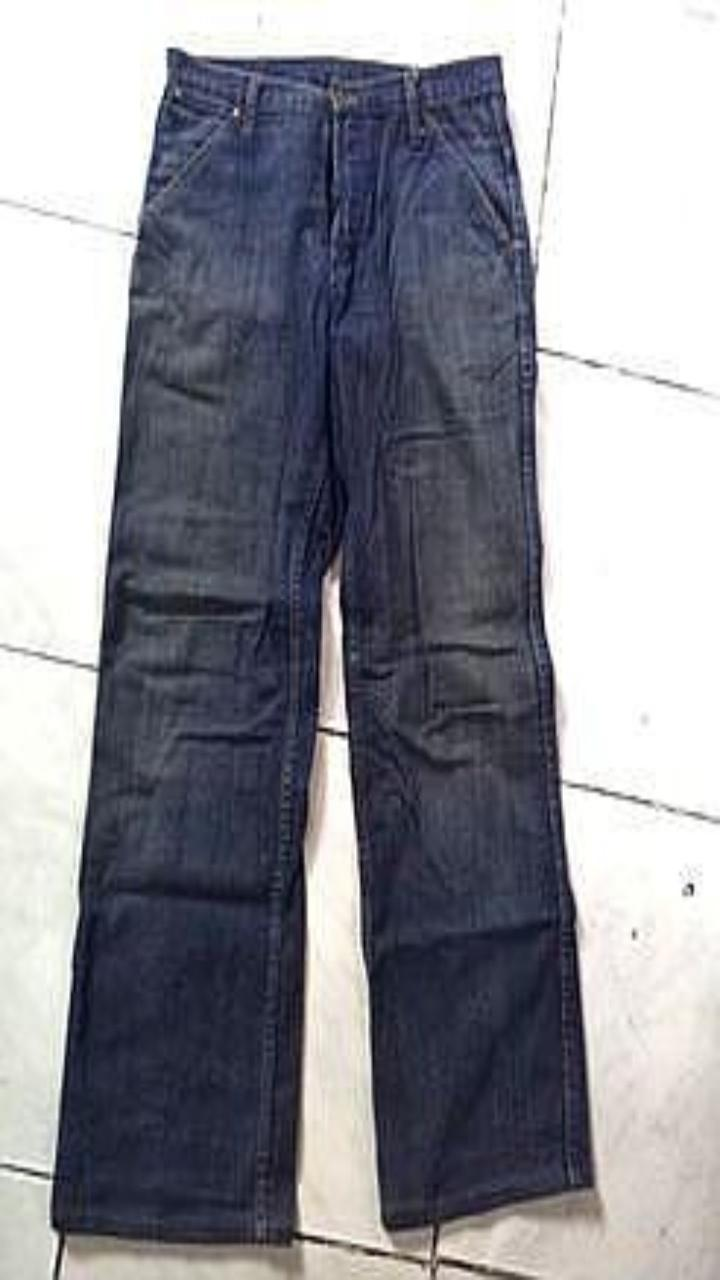Jeans: (52, 47, 592, 1242)
